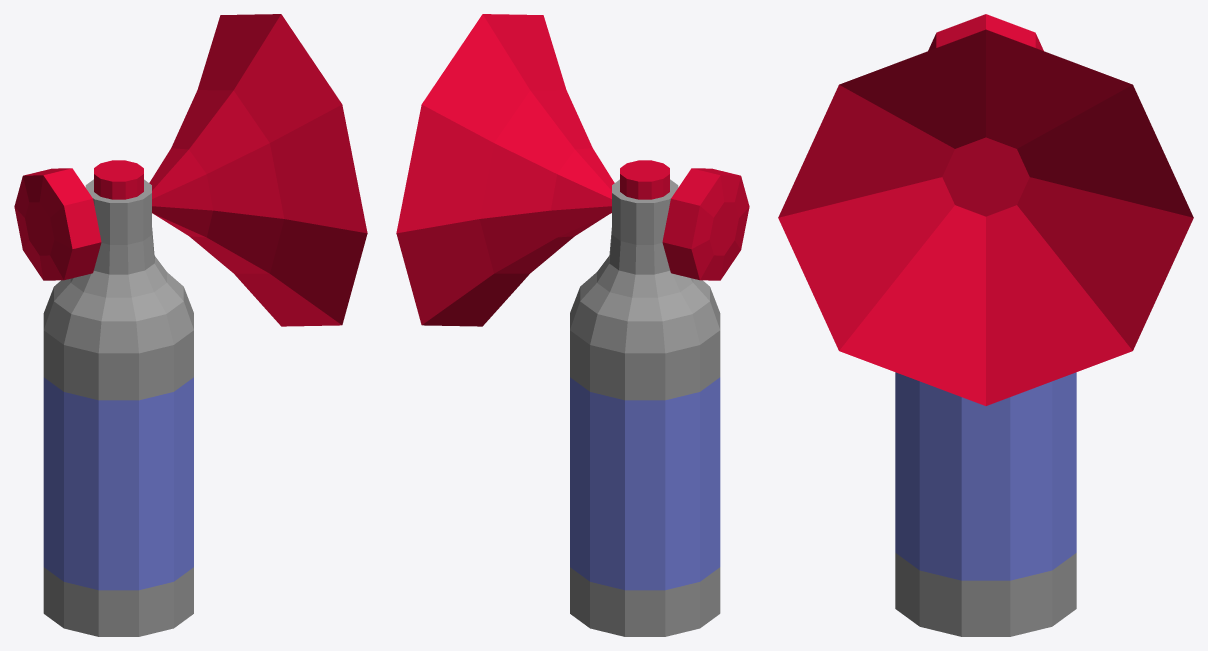
File: items.glb
The picture shows the model from 3 angles, left to right: view 1: azimuth 30°, elevation 25°; view 2: azimuth 150°, elevation 25°; view 3: azimuth 270°, elevation 25°; orthographic projection. The views are drawn at different scales.
Parts seen in each view (by area): view 1: Airhorn; view 2: Airhorn; view 3: Airhorn.
Boxes of the visible parts, x1=… form: Airhorn: x1=14, y1=14, x2=367, y2=636; Airhorn: x1=396, y1=14, x2=749, y2=636; Airhorn: x1=778, y1=14, x2=1193, y2=636.
Bounding box in the file's own units: 0.7338 × 1.6 × 0.9068.
